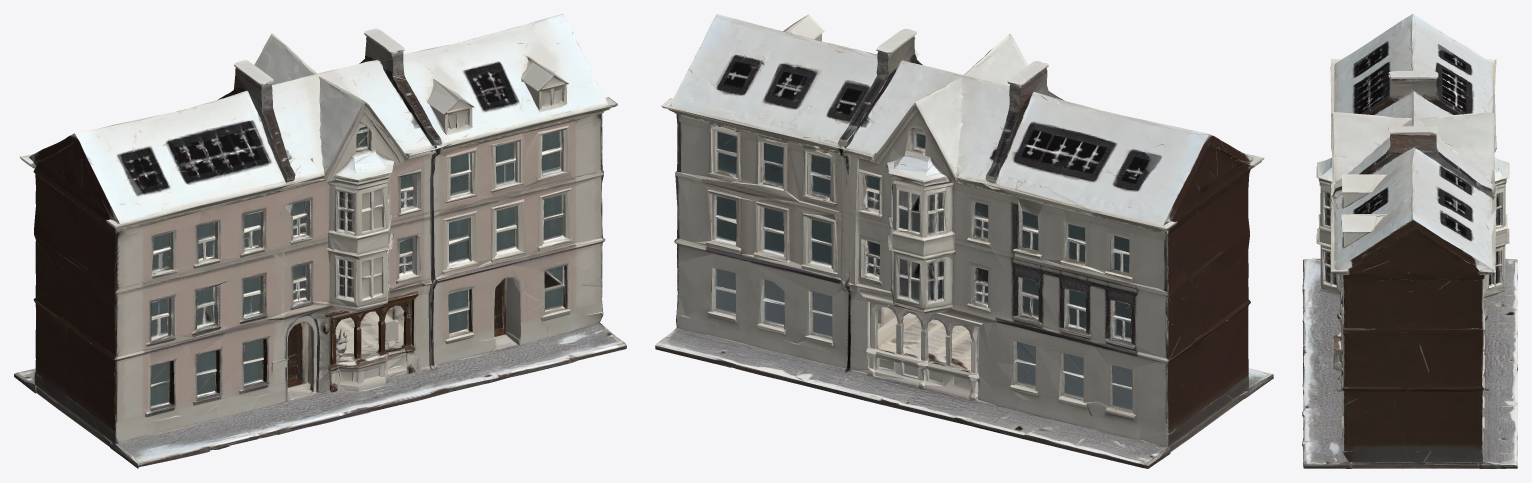
Rendered from shop_pastel.glb.
3 renders of one model, left to right at view 1: azimuth 30°, elevation 25°; view 2: azimuth 150°, elevation 25°; view 3: azimuth 270°, elevation 25°, orthographic. The views are drawn at different scales.
Size of the model in its own units: 1.9 by 1.11 by 0.818.
Materials: 1 (1 with a texture image).
